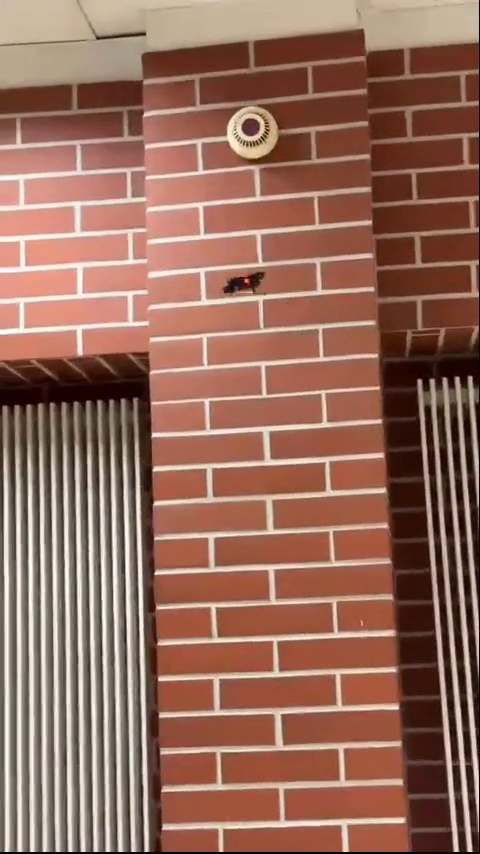drone: (222, 268, 267, 294)
